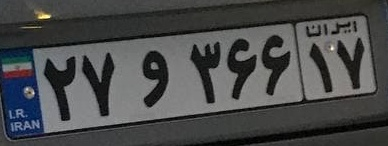character: (78, 48, 125, 122), (128, 44, 178, 111), (35, 53, 80, 126), (179, 37, 224, 108), (223, 31, 259, 104), (260, 29, 295, 100), (333, 34, 369, 92), (302, 41, 336, 93)
